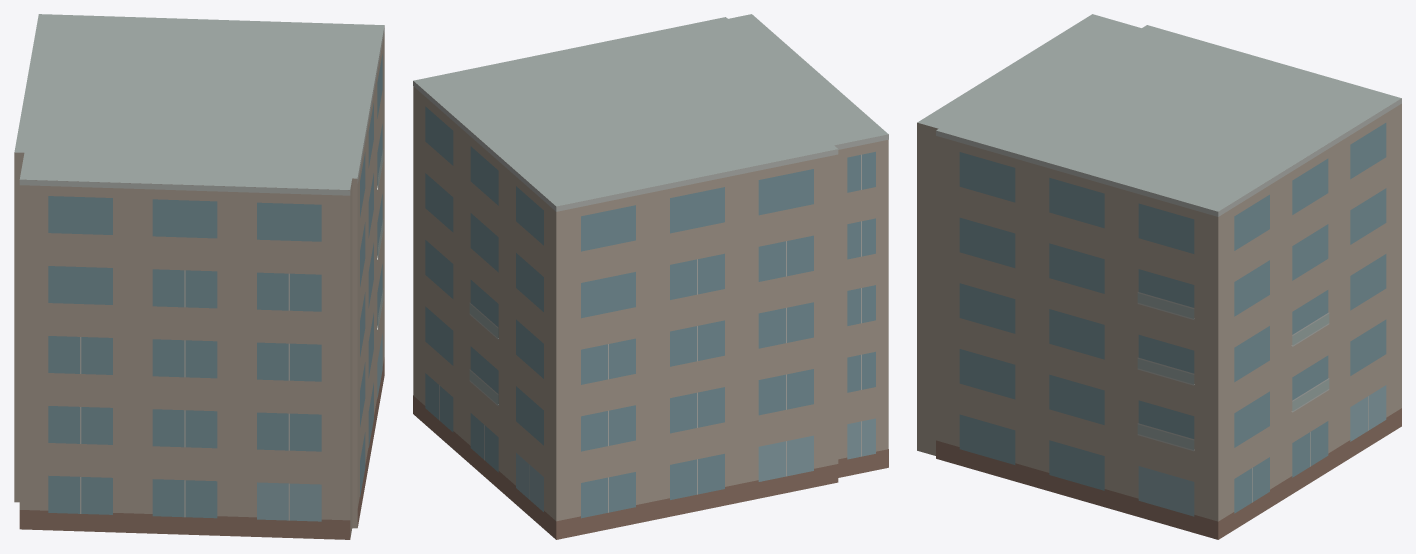
File: survey-upis-32759369.glb
3 views of the same model, side by side, from view 1: azimuth 30°, elevation 25°; view 2: azimuth 150°, elevation 25°; view 3: azimuth 270°, elevation 25° (orthographic). The views are drawn at different scales.
Parts seen in each view (by area): view 1: survey-upis-32759369.tmp; view 2: survey-upis-32759369.tmp; view 3: survey-upis-32759369.tmp.
Part boxes in pixels (x1,y1,x2,y2): survey-upis-32759369.tmp: (14, 14, 384, 539); survey-upis-32759369.tmp: (413, 14, 888, 539); survey-upis-32759369.tmp: (917, 14, 1401, 539).
Size of the model in its own units: 19.72 by 15.25 by 20.42.
